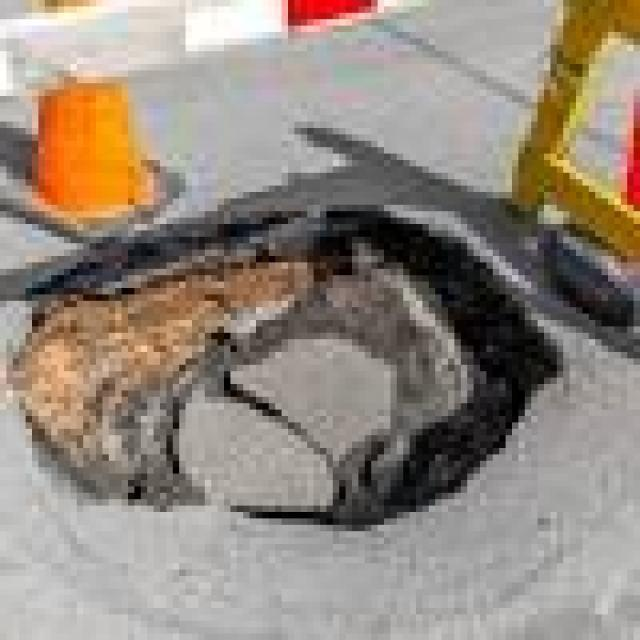pothole: (0, 166, 563, 531)
